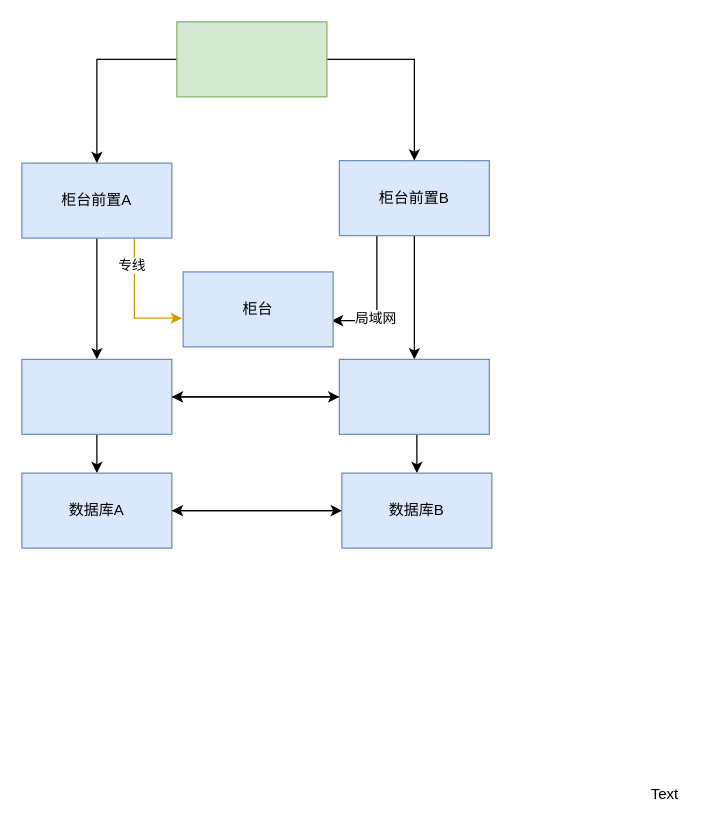
Some shapes in this 711 by 829 pixel diagram are drawn without their labels. The shapes that lost their labels are listed below. From the top down, each one's centre as x and y in pixels, then its label:
(x=251, y=59): 前端/客户端
(x=96, y=396): 缓存集群A
(x=413, y=396): 缓存集群B
